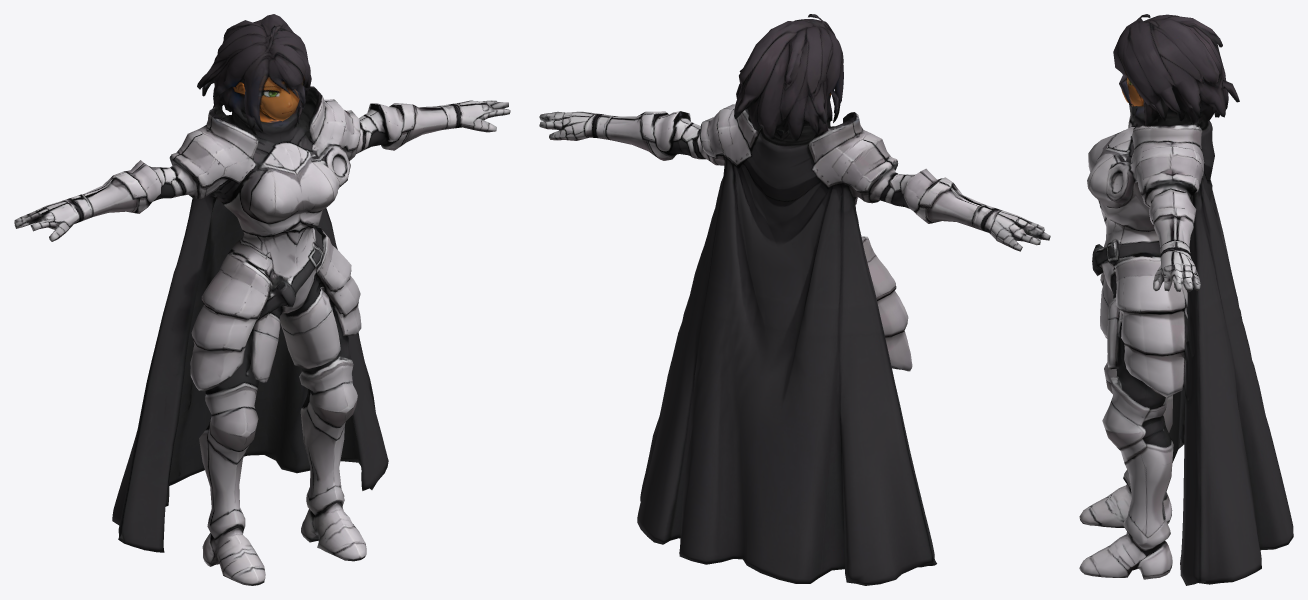
The picture shows the model from 3 angles, left to right: view 1: azimuth 30°, elevation 25°; view 2: azimuth 150°, elevation 25°; view 3: azimuth 270°, elevation 25°; orthographic projection. The views are drawn at different scales.
Visible parts, largest first — view 1: tripo_node_09084358-dd46-4792-a537-1d57c9bf9d83; view 2: tripo_node_09084358-dd46-4792-a537-1d57c9bf9d83; view 3: tripo_node_09084358-dd46-4792-a537-1d57c9bf9d83.
Part boxes in pixels (x1,y1,x2,y2): tripo_node_09084358-dd46-4792-a537-1d57c9bf9d83: [14, 14, 510, 585]; tripo_node_09084358-dd46-4792-a537-1d57c9bf9d83: [539, 14, 1050, 585]; tripo_node_09084358-dd46-4792-a537-1d57c9bf9d83: [1079, 14, 1293, 585].
Bounding box in the file's own units: 0.9665 × 0.9785 × 0.3572.
1 material, 1 textured.
